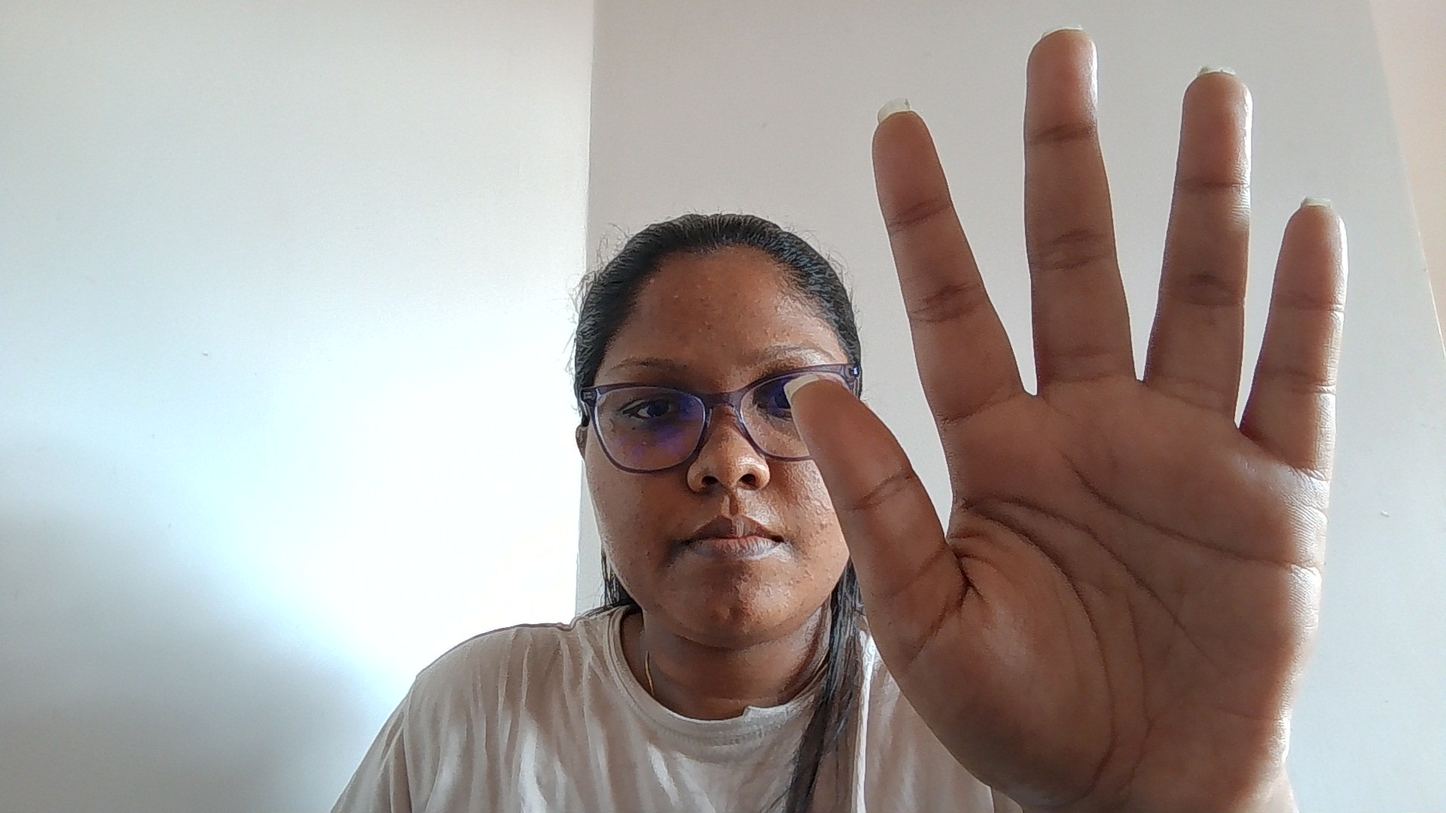Hello: (789, 60, 1433, 813)
